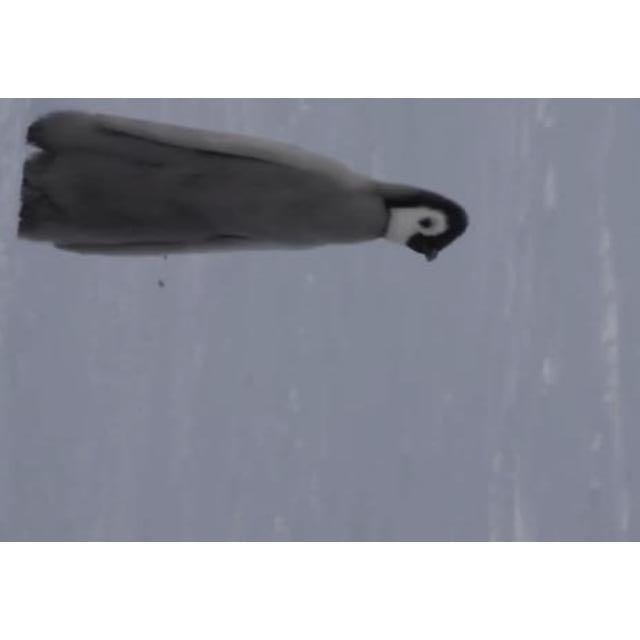penguin: (18, 107, 470, 265)
